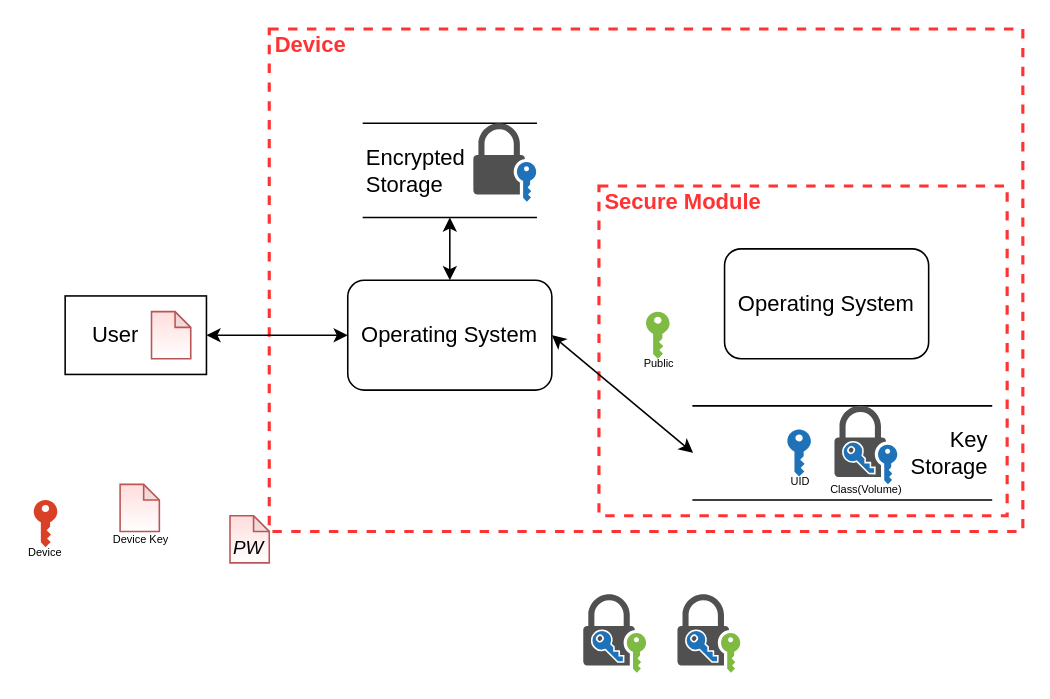
Some shapes in this 1050 by 699 pixel diagram are drawn without their labels. Each missing label, with the centre of its shape:
"PIN" belongs at (170,334).
"Volume" belongs at (504,161).
